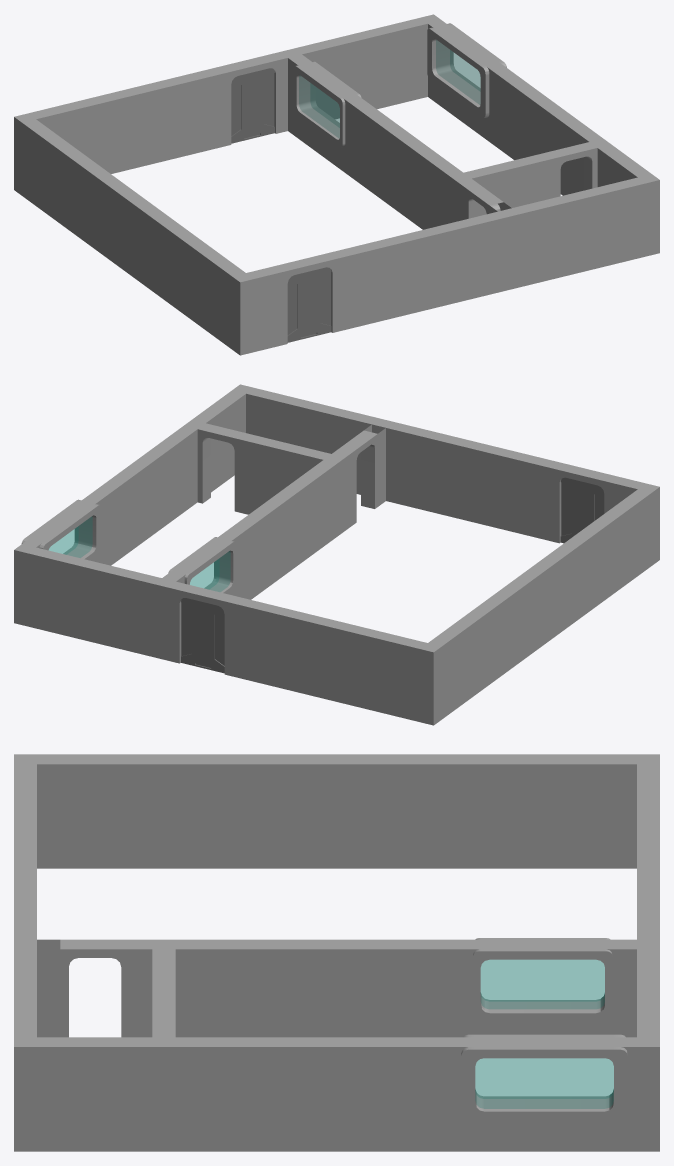
File: geo_FINALroom.fbx
3 renders of one model, top to bottom at view 1: azimuth 30°, elevation 25°; view 2: azimuth 150°, elevation 25°; view 3: azimuth 270°, elevation 25°, orthographic. The views are drawn at different scales.
Visible parts, largest first — view 1: geo_walls; view 2: geo_walls; view 3: geo_walls.
Boxes of the visible parts, left/top/right/bottom form: geo_walls: left=14, top=14, right=659, bottom=355; geo_walls: left=14, top=384, right=659, bottom=725; geo_walls: left=14, top=754, right=659, bottom=1151.
Bounding box in the file's own units: 1514 × 250 × 1400.
